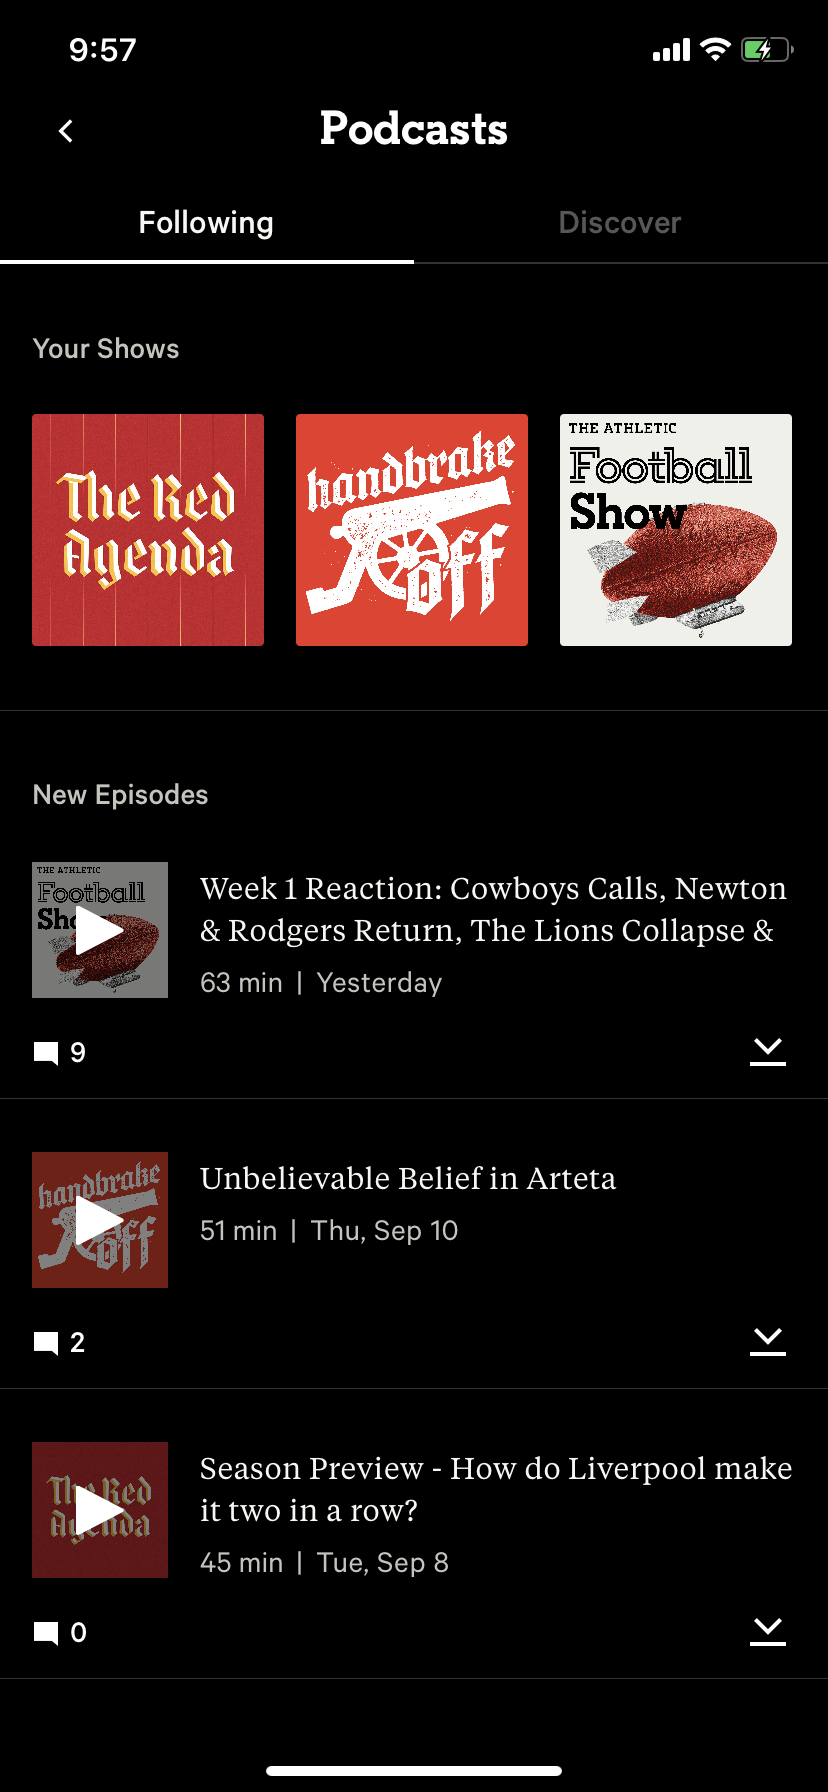Buttons: (27, 86, 108, 162), (13, 1015, 110, 1078), (11, 1600, 111, 1657), (11, 1314, 110, 1369), (729, 1013, 793, 1079), (732, 1598, 801, 1659), (737, 1312, 801, 1370)
